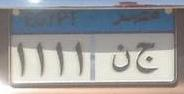1: (14, 40, 28, 78), (53, 40, 67, 75), (73, 41, 86, 78), (34, 40, 46, 79)
jeem: (134, 40, 162, 74)
noon: (111, 42, 131, 75)
